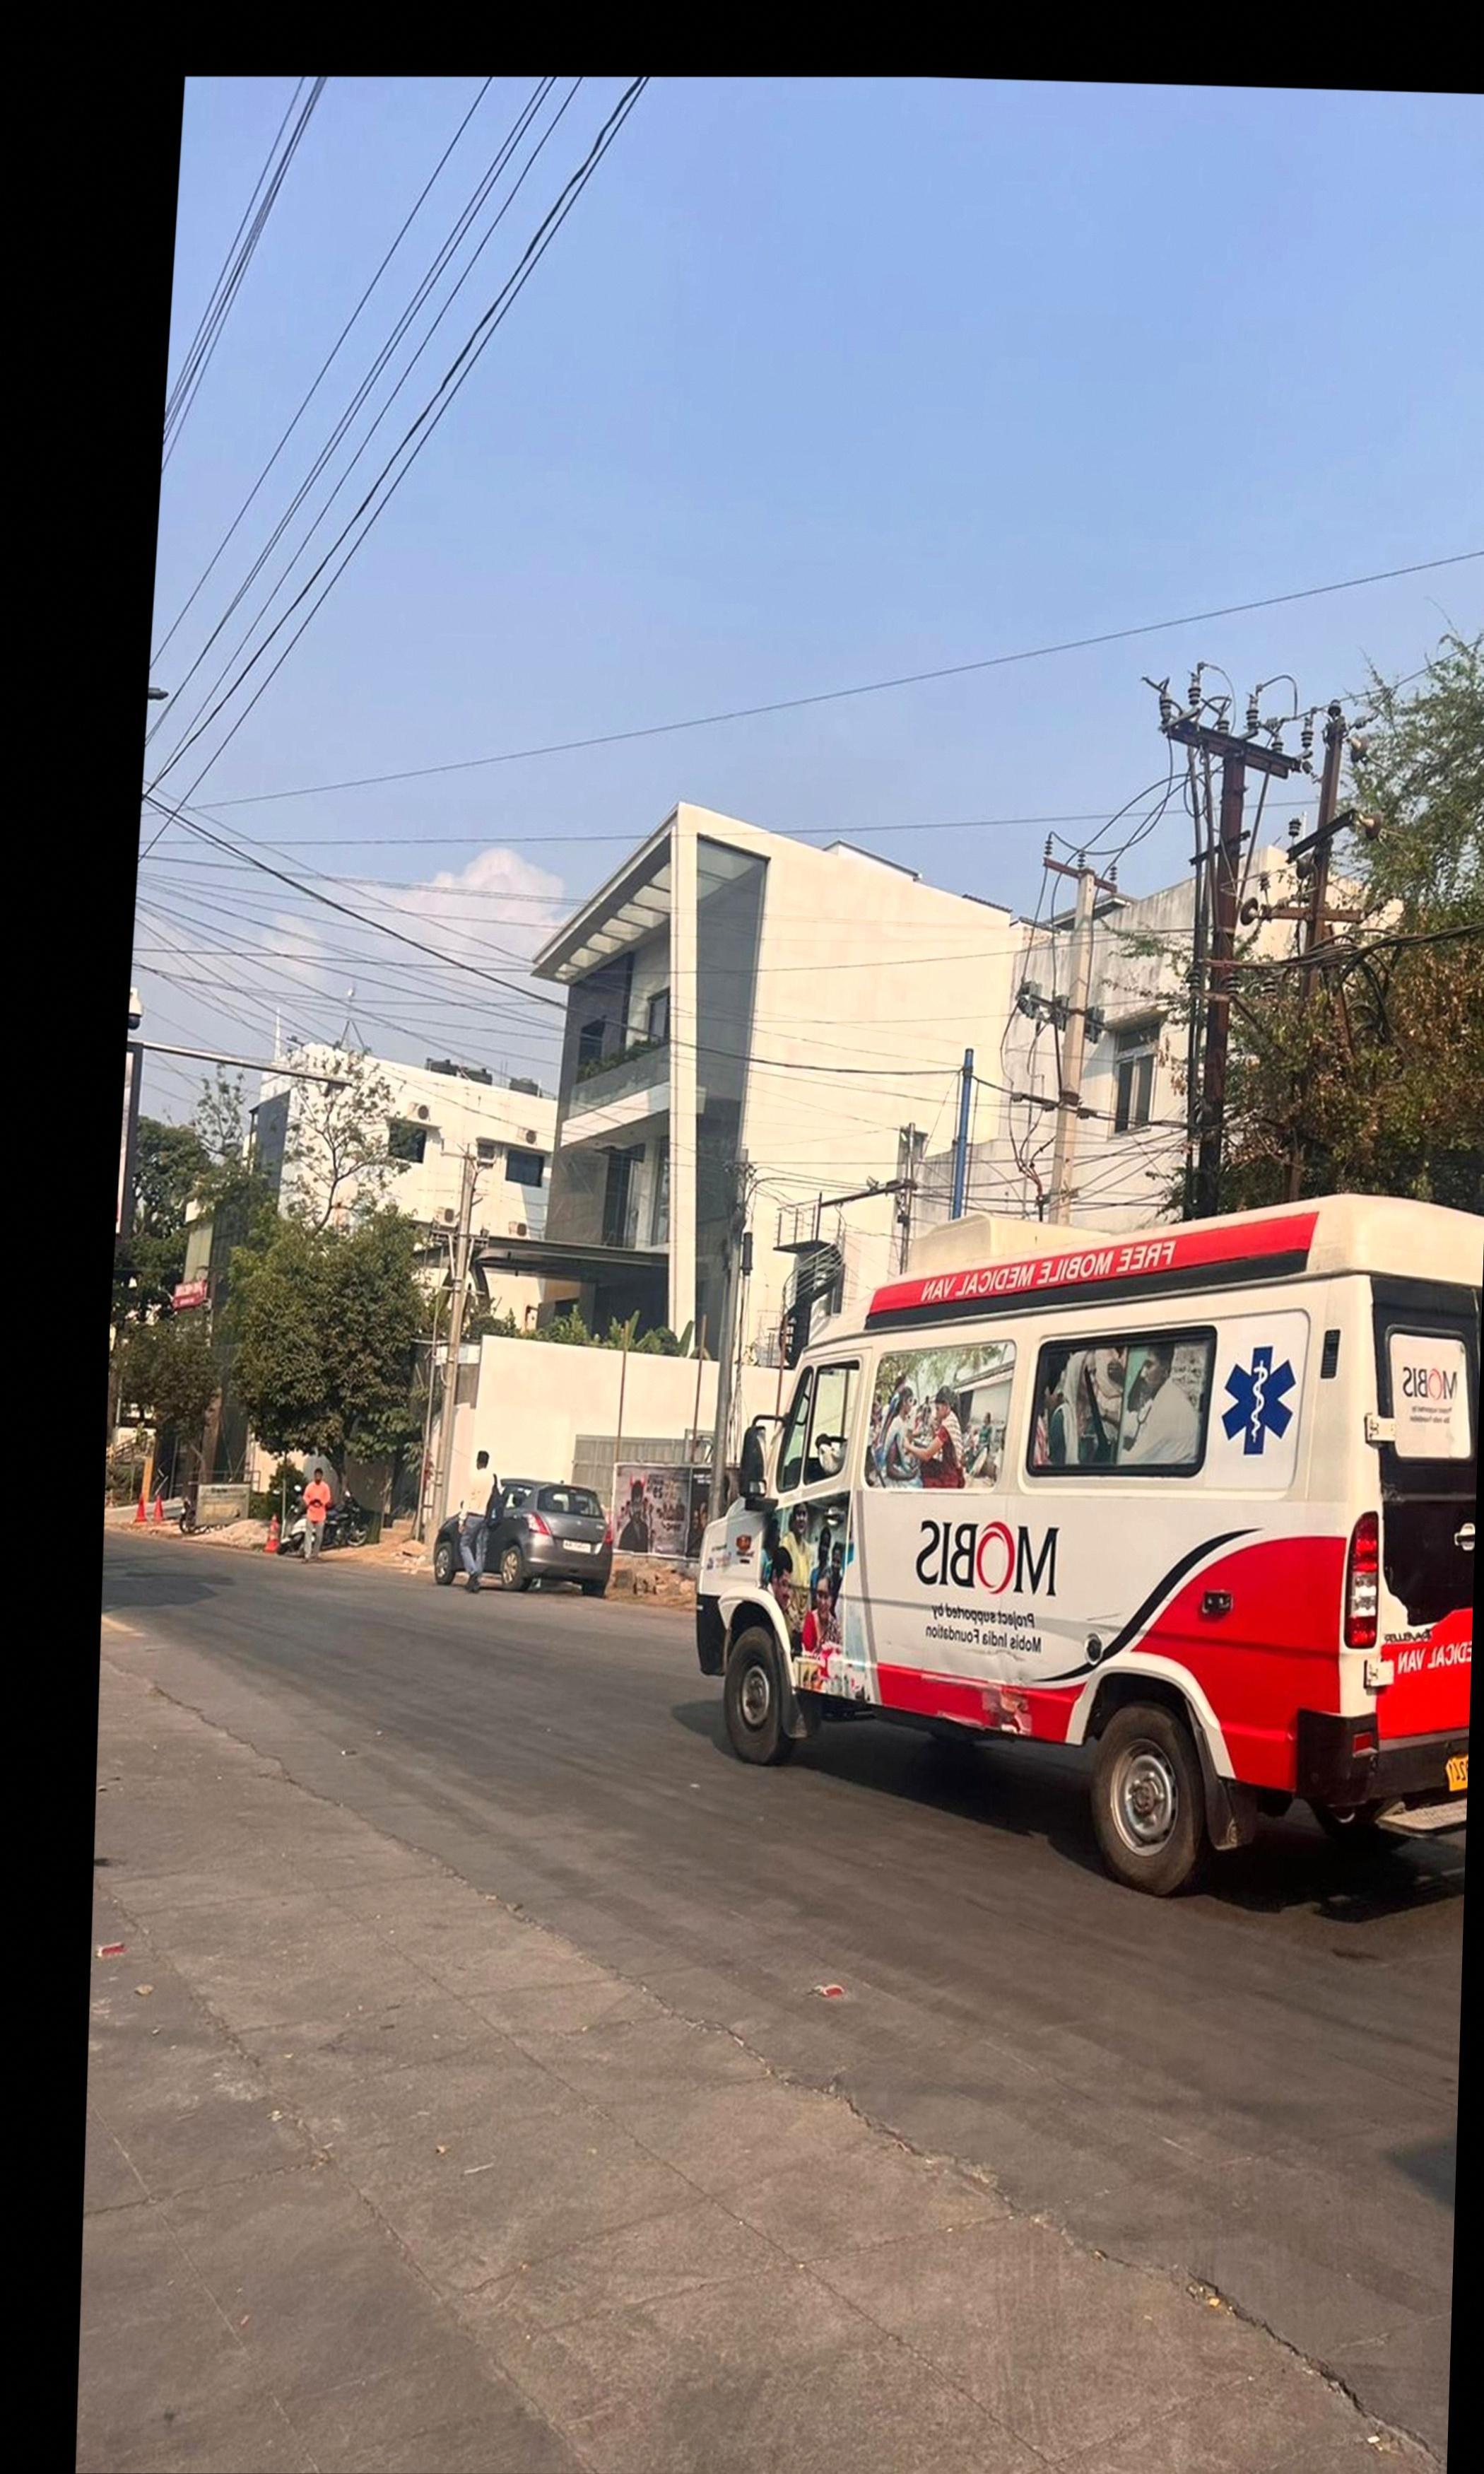ambulance: (694, 1198, 1484, 1898)
